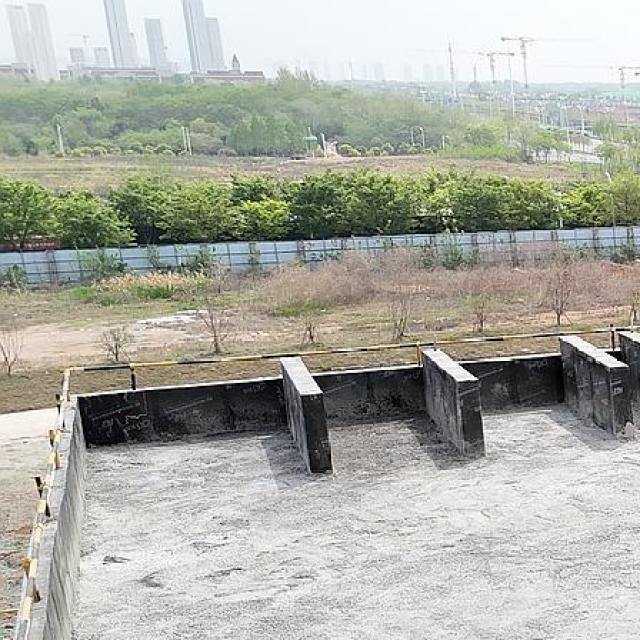edge_guardrail: (11, 323, 640, 640)
